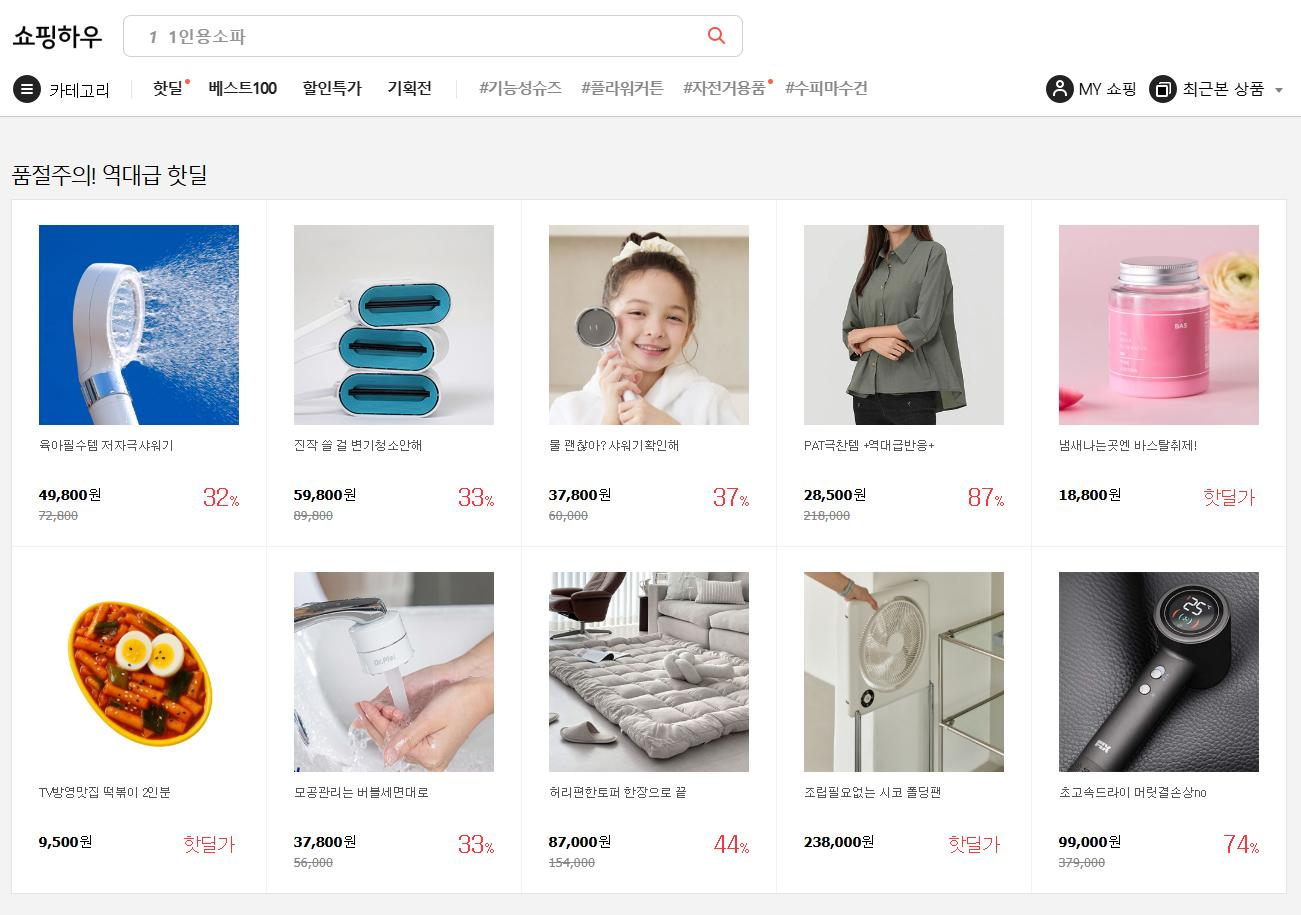button: (3, 59, 119, 115), (1030, 66, 1144, 115), (676, 72, 783, 113), (470, 74, 574, 112), (784, 73, 882, 111), (577, 73, 669, 109), (207, 66, 289, 104), (300, 67, 365, 111), (381, 66, 439, 115), (137, 67, 200, 108)
checkbox: (1150, 67, 1296, 113)
input_field: (116, 10, 755, 61)
